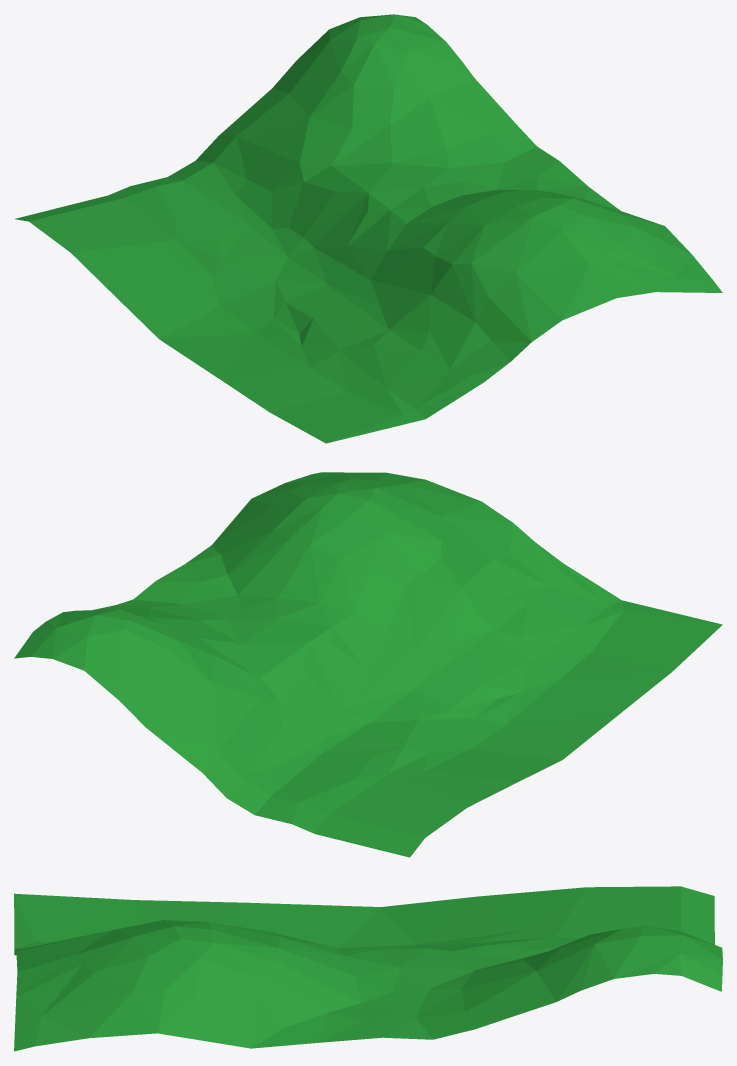
The model's file is Field_L5.fbx.
The picture shows the model from 3 angles, top to bottom: view 1: azimuth 30°, elevation 25°; view 2: azimuth 150°, elevation 25°; view 3: azimuth 270°, elevation 25°; orthographic projection. The views are drawn at different scales.
Parts seen in each view (by area): view 1: L5; view 2: L5; view 3: L5.
Boxes of the visible parts, left/top/right/bottom form: L5: left=15, top=14, right=722, bottom=443; L5: left=14, top=472, right=722, bottom=857; L5: left=14, top=886, right=722, bottom=1051.
Size of the model in its own units: 2540 by 854 by 3400.
